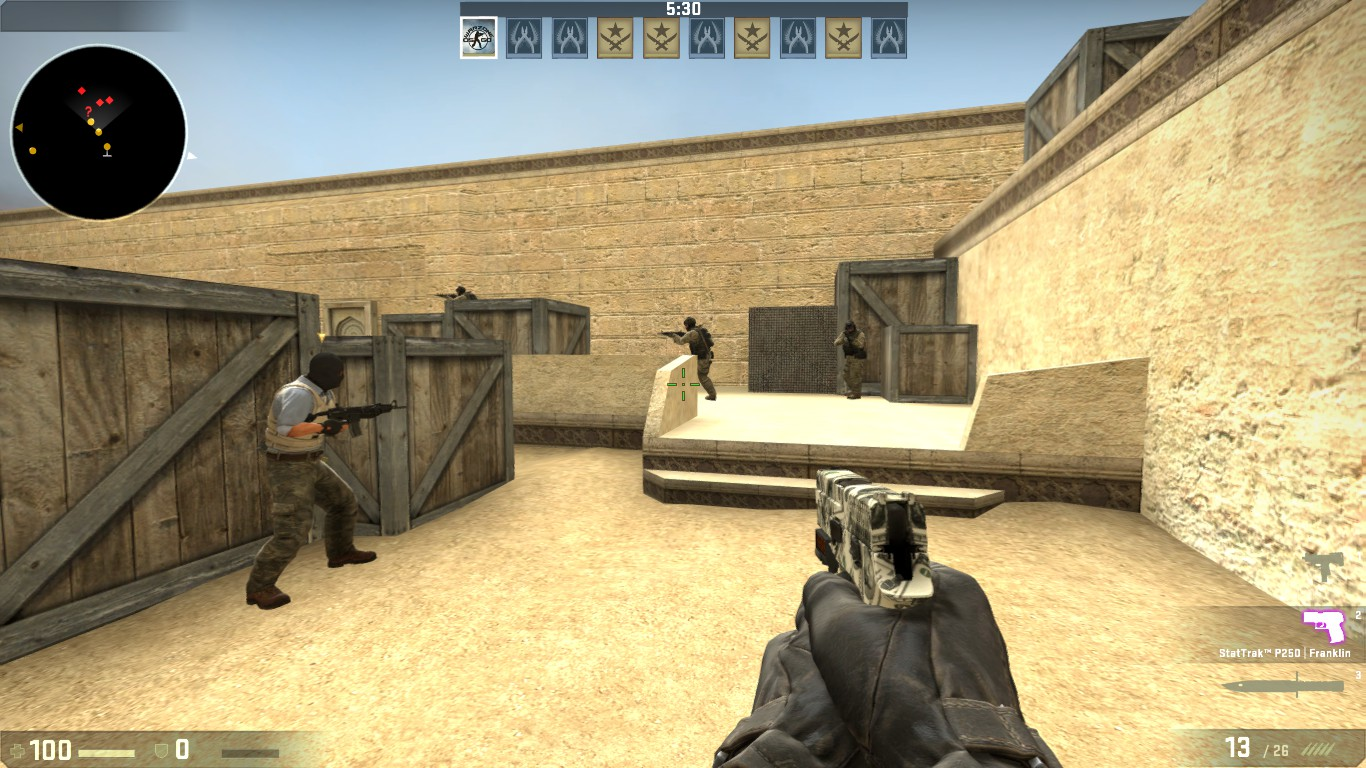c: (674, 315, 719, 397), (836, 320, 867, 399)
ch: (681, 314, 704, 331), (843, 320, 859, 335), (453, 283, 468, 296)
t: (244, 351, 356, 608)
th: (301, 354, 350, 393)
